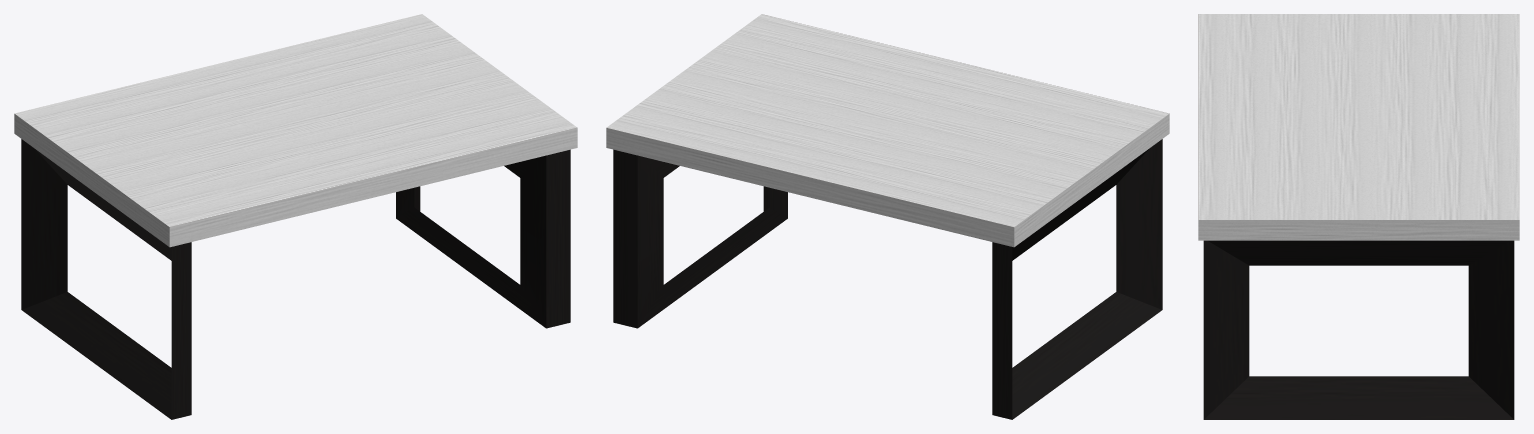
File: Desk_A.FBX
The picture shows the model from 3 angles, left to right: view 1: azimuth 30°, elevation 25°; view 2: azimuth 150°, elevation 25°; view 3: azimuth 270°, elevation 25°; orthographic projection. The views are drawn at different scales.
Parts seen in each view (by area): view 1: Desk; view 2: Desk; view 3: Desk.
Boxes of the visible parts, left/top/right/bottom form: Desk: left=14, top=14, right=577, bottom=419; Desk: left=606, top=14, right=1169, bottom=419; Desk: left=1198, top=14, right=1519, bottom=419.
Size of the model in its own units: 215 by 98.47 by 142.
